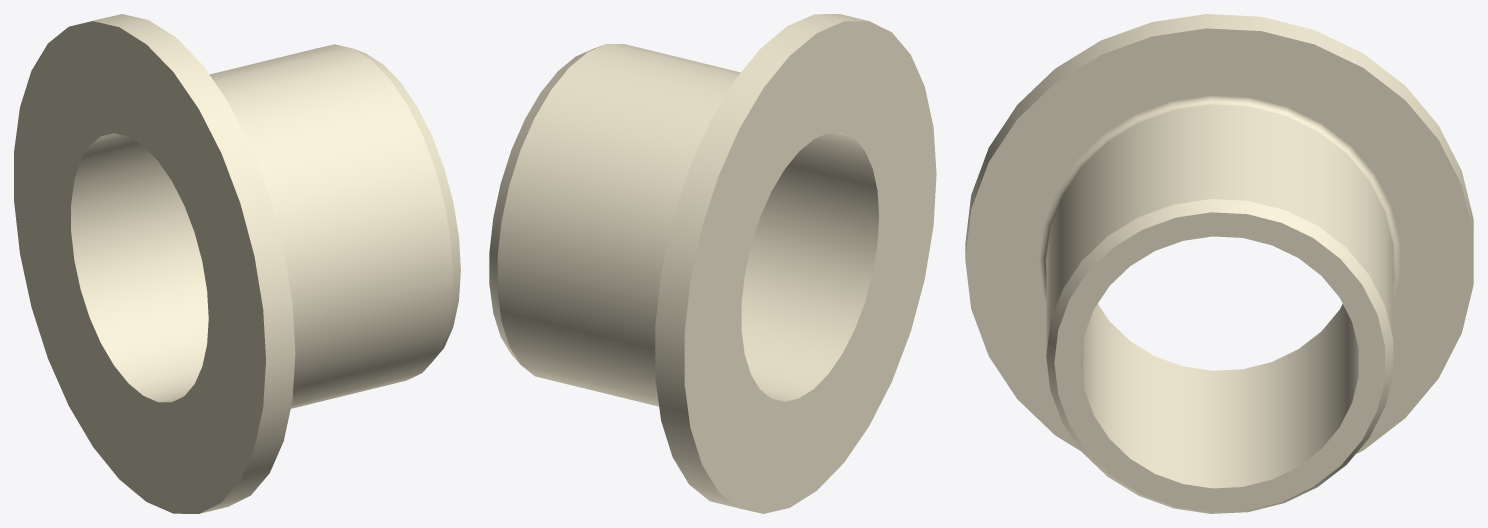
Rendered from _2706T64_Dry_Running_Flanged_Sleeve_Bearing.gltf.
3 views of the same model, side by side, from view 1: azimuth 30°, elevation 25°; view 2: azimuth 150°, elevation 25°; view 3: azimuth 270°, elevation 25° (orthographic).
Parts seen in each view (by area): view 1: mesh18346, mesh18341, mesh18347, mesh18345, mesh18342; view 2: mesh18346, mesh18341, mesh18347, mesh18345, mesh18342; view 3: mesh18344, mesh18341, mesh18347, mesh18348, mesh18342, mesh18345, mesh18343.
Part boxes in pixels (left/top/right/bottom): mesh18346: left=14, top=21, right=265, bottom=513; mesh18341: left=210, top=44, right=452, bottom=408; mesh18347: left=71, top=133, right=208, bottom=402; mesh18345: left=76, top=14, right=295, bottom=513; mesh18342: left=353, top=48, right=460, bottom=370; mesh18346: left=684, top=21, right=936, bottom=513; mesh18341: left=497, top=44, right=740, bottom=406; mesh18347: left=741, top=132, right=878, bottom=401; mesh18345: left=655, top=14, right=867, bottom=508; mesh18342: left=489, top=45, right=602, bottom=363; mesh18344: left=965, top=28, right=1473, bottom=453; mesh18341: left=1046, top=104, right=1393, bottom=353; mesh18347: left=1081, top=304, right=1358, bottom=488; mesh18348: left=1054, top=212, right=1384, bottom=512; mesh18342: left=1046, top=199, right=1393, bottom=513; mesh18345: left=965, top=14, right=1473, bottom=256; mesh18343: left=1039, top=95, right=1400, bottom=304.
Size of the model in its own units: 0.00953 by 0.0174 by 0.0174.
